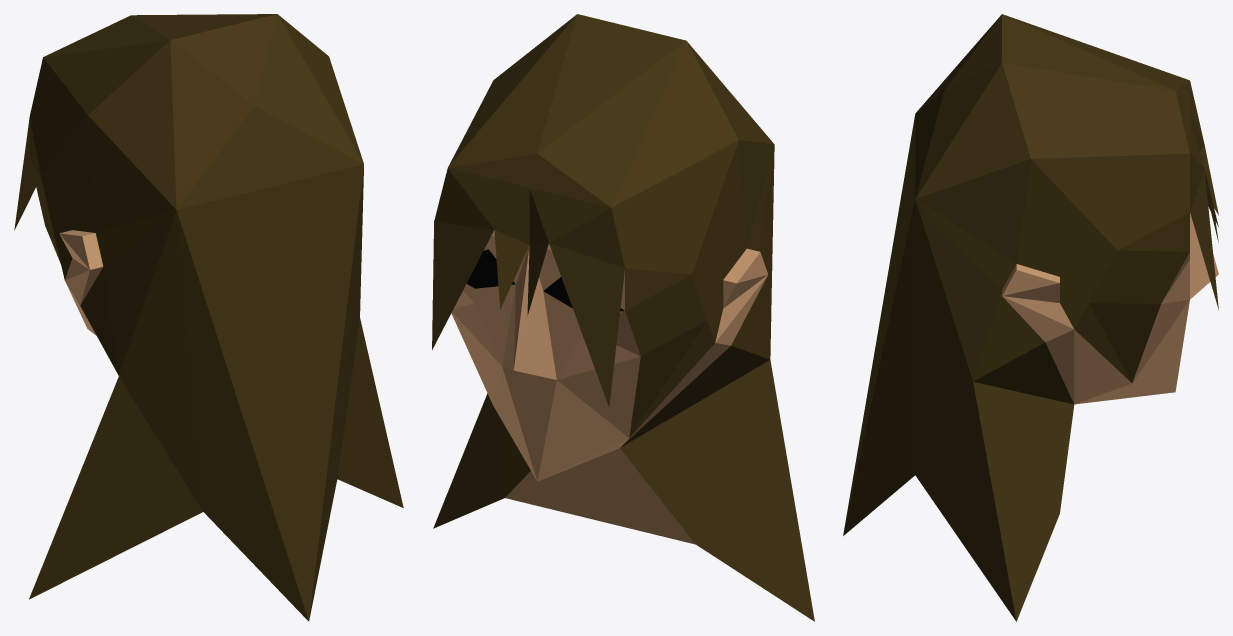
The model's file is player_female_head_48_0.obj.
3 renders of one model, left to right at view 1: azimuth 30°, elevation 25°; view 2: azimuth 150°, elevation 25°; view 3: azimuth 270°, elevation 25°, orthographic. The views are drawn at different scales.
Bounding box in the file's own units: 0.2188 × 0.2969 × 0.2031.
